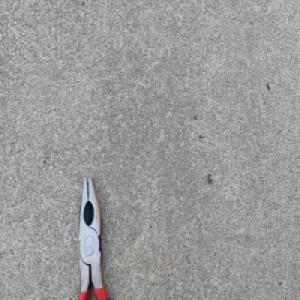Pliers: (76, 174, 111, 300)
